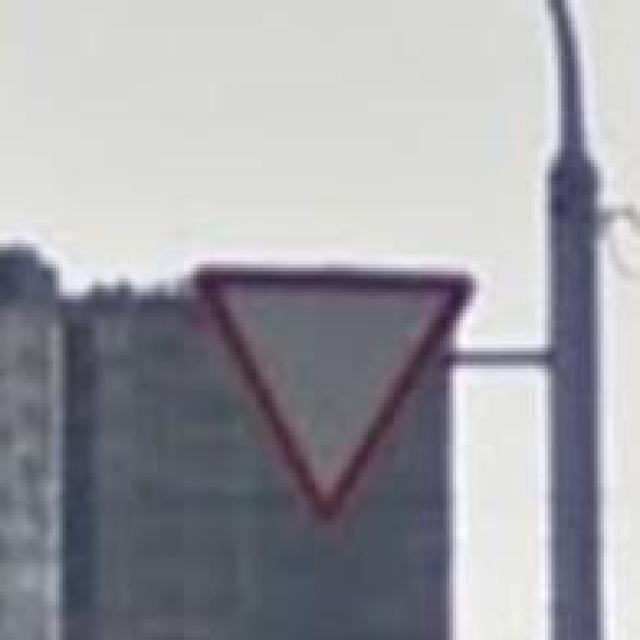give_way: (190, 261, 480, 525)
